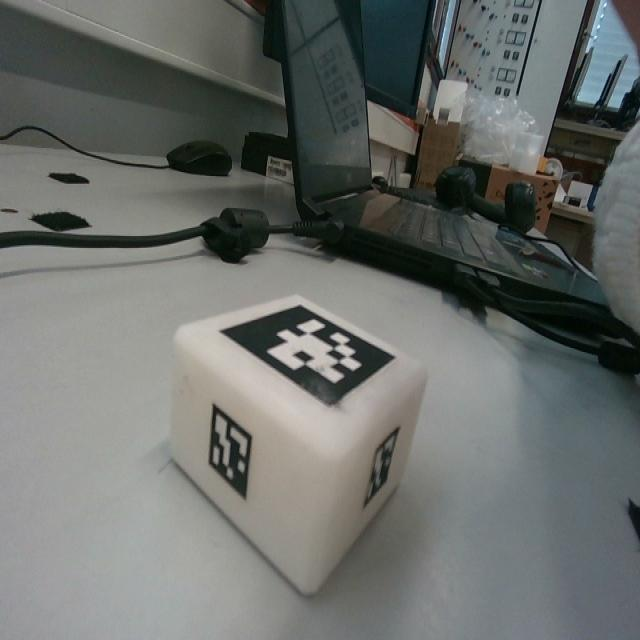Cube: (169, 290, 429, 598)
